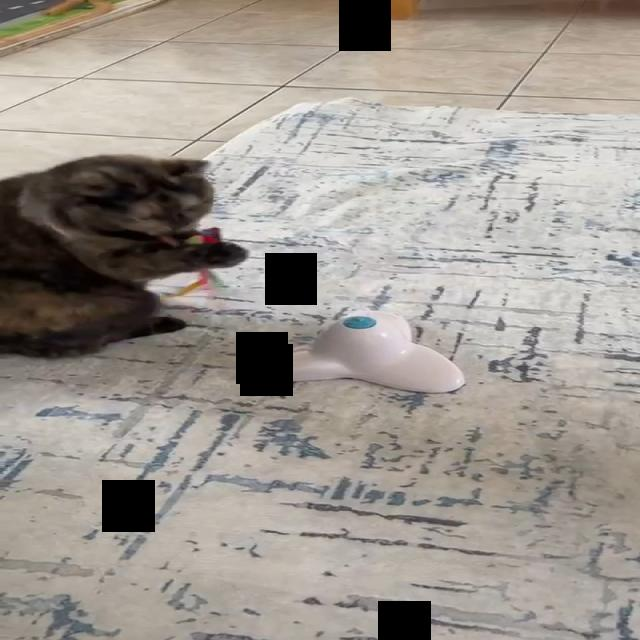authorized: (0, 152, 248, 358)
